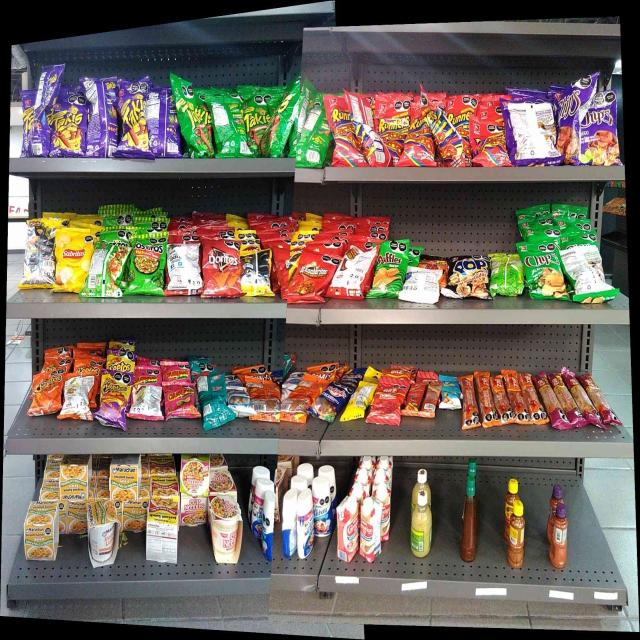bitzAlmendras: (440, 375, 461, 411)
bitzEnchilado90: (374, 382, 404, 424)
bitzEnchilado95: (497, 368, 537, 426), (462, 374, 480, 430), (480, 372, 496, 427)
bitzHabanero: (544, 369, 606, 433)
bokadosCacahuates: (316, 387, 349, 416)
botaneraChilito: (508, 501, 524, 569)
cheetosFlaminHot: (102, 370, 130, 430)
cheetosOriginal: (34, 371, 62, 415)
chipsFuego: (584, 101, 616, 166), (558, 82, 584, 154)
chipsJalapeno: (525, 243, 561, 300)
churrumais: (163, 381, 196, 417), (162, 364, 191, 378)
delPrimoSalsa: (410, 490, 432, 559)
doritosNacho: (209, 244, 238, 298)
leoCacahuates: (226, 374, 249, 418)
maruchanPollo: (88, 501, 116, 568), (26, 502, 56, 563), (60, 454, 87, 501), (110, 460, 139, 499)
maruchanRes: (148, 496, 177, 561)
nestleCarnation: (359, 498, 382, 565), (337, 496, 358, 564)
nestleLechera: (312, 476, 334, 535), (297, 489, 311, 558), (249, 477, 263, 541)
nissinCamaron: (182, 456, 208, 495)
nissinRes: (208, 495, 242, 566)
popKarameladas: (450, 252, 490, 298)
productoAtras: (88, 79, 118, 157), (512, 106, 555, 160), (568, 250, 607, 305), (89, 248, 125, 296), (212, 100, 242, 156), (167, 242, 200, 292), (149, 95, 175, 157), (338, 248, 369, 298), (300, 111, 328, 165), (132, 384, 163, 424), (65, 377, 92, 422), (492, 254, 522, 294), (407, 266, 440, 300)
rancheritos: (290, 260, 330, 302), (242, 248, 270, 296)
rufflesQueso: (376, 244, 403, 294)
runners: (331, 99, 356, 166), (379, 97, 408, 152), (410, 107, 433, 164), (448, 96, 476, 139), (437, 140, 473, 169)
sabritasOriginal: (26, 226, 54, 286), (57, 236, 87, 290)
salsaBufalo: (462, 476, 478, 563)
semillasCalabaza: (351, 385, 373, 418)
semillasGirasol: (202, 374, 225, 427)
tajinDulce: (549, 503, 568, 571)
takisFuego: (120, 86, 148, 155), (54, 100, 86, 155), (23, 92, 34, 148)
takisOriginal: (271, 87, 296, 155), (178, 92, 204, 156), (244, 102, 268, 150)
tostitos: (135, 239, 164, 289)
